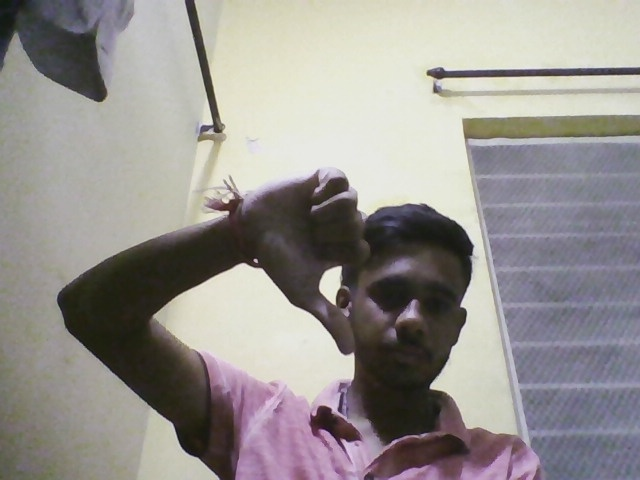no: (245, 157, 371, 359)
